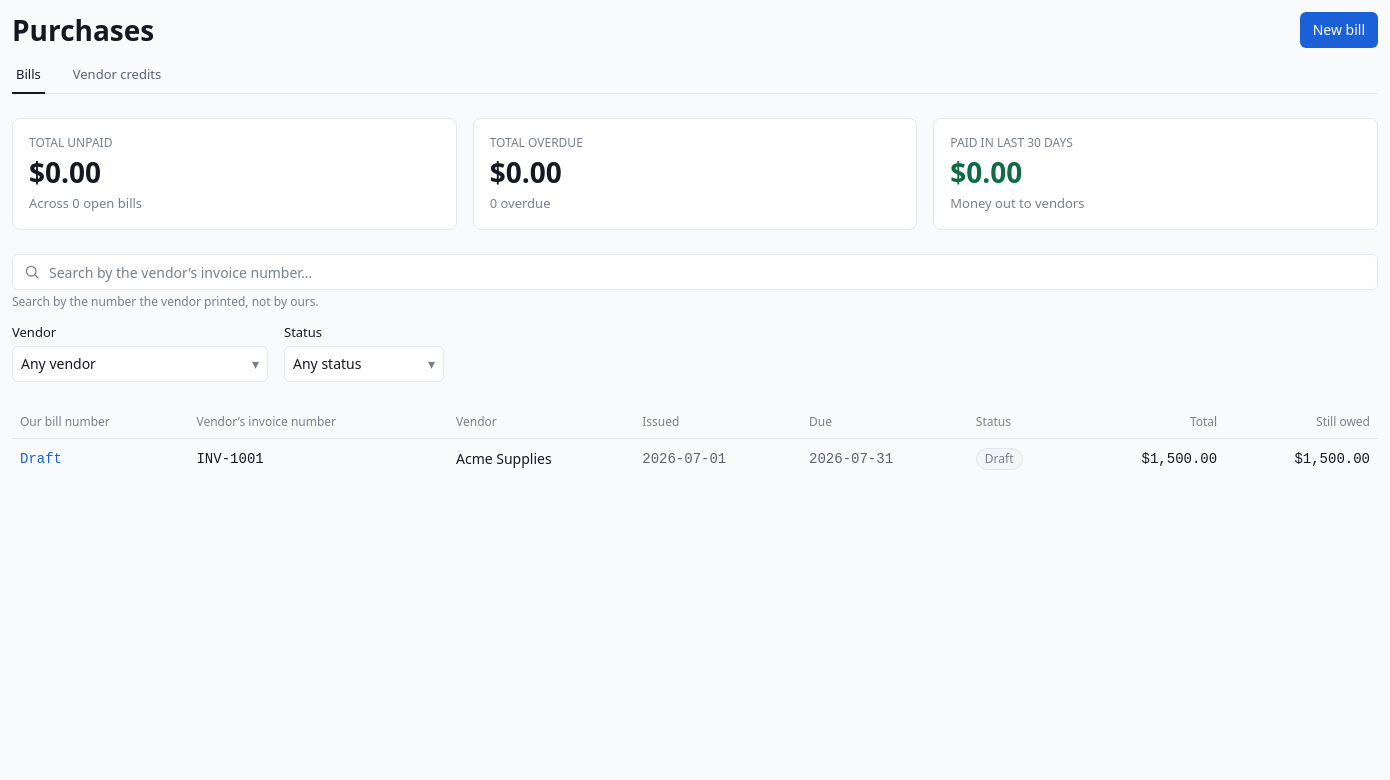
the reference field › names whose number it holds, and shows ours under a different name
Click the button "Draft": (41, 459) 20,448 -> 62,470
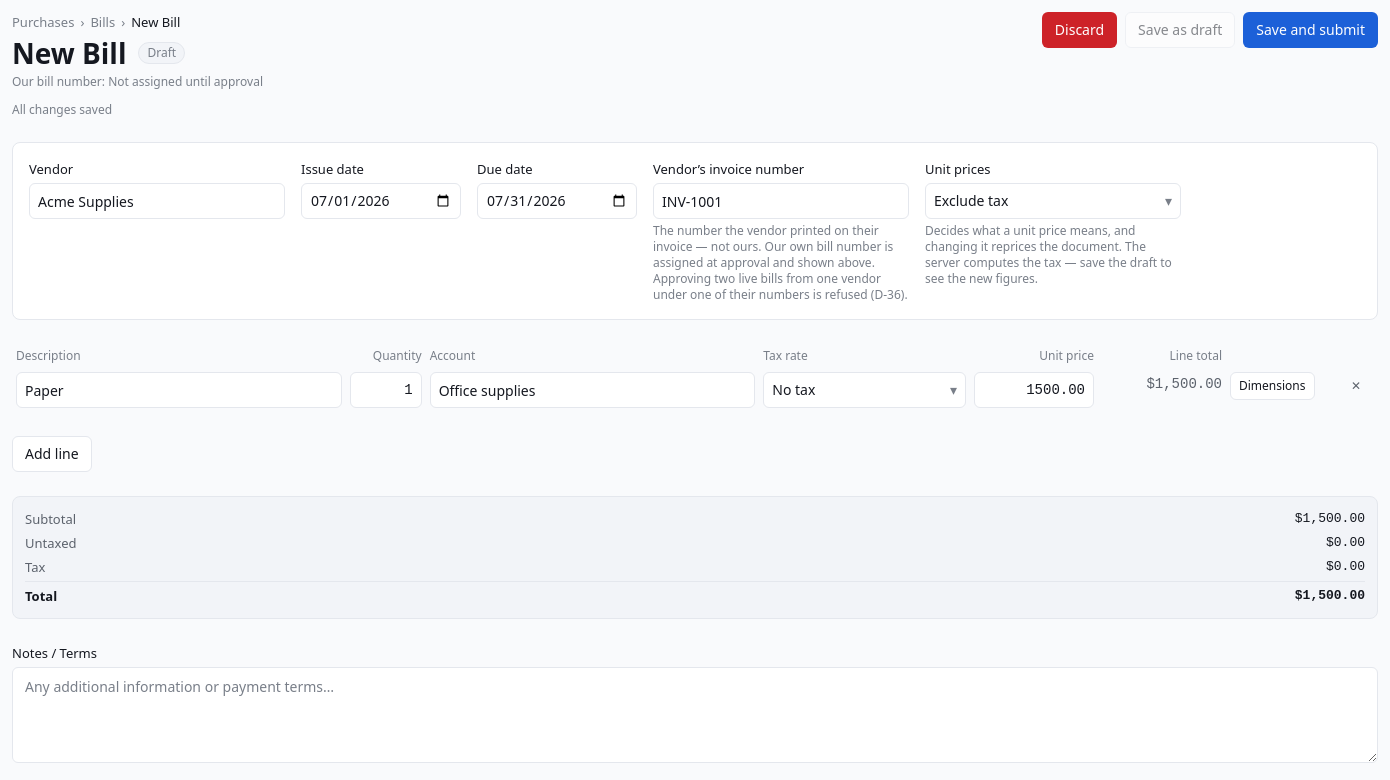
Expected: the text "Our bill number" is shown, 12,73 -> 102,90
Now the field labelled "Vendor’s invoice number" holds "INV-1001", box 653,183 -> 909,219
Now the text "Not assigned until approval" is shown, box 108,73 -> 263,90
